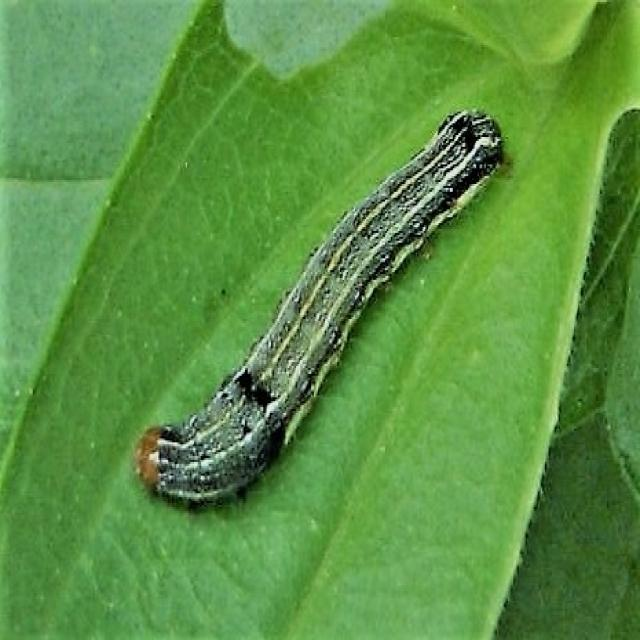armyworm: (134, 106, 504, 509)
